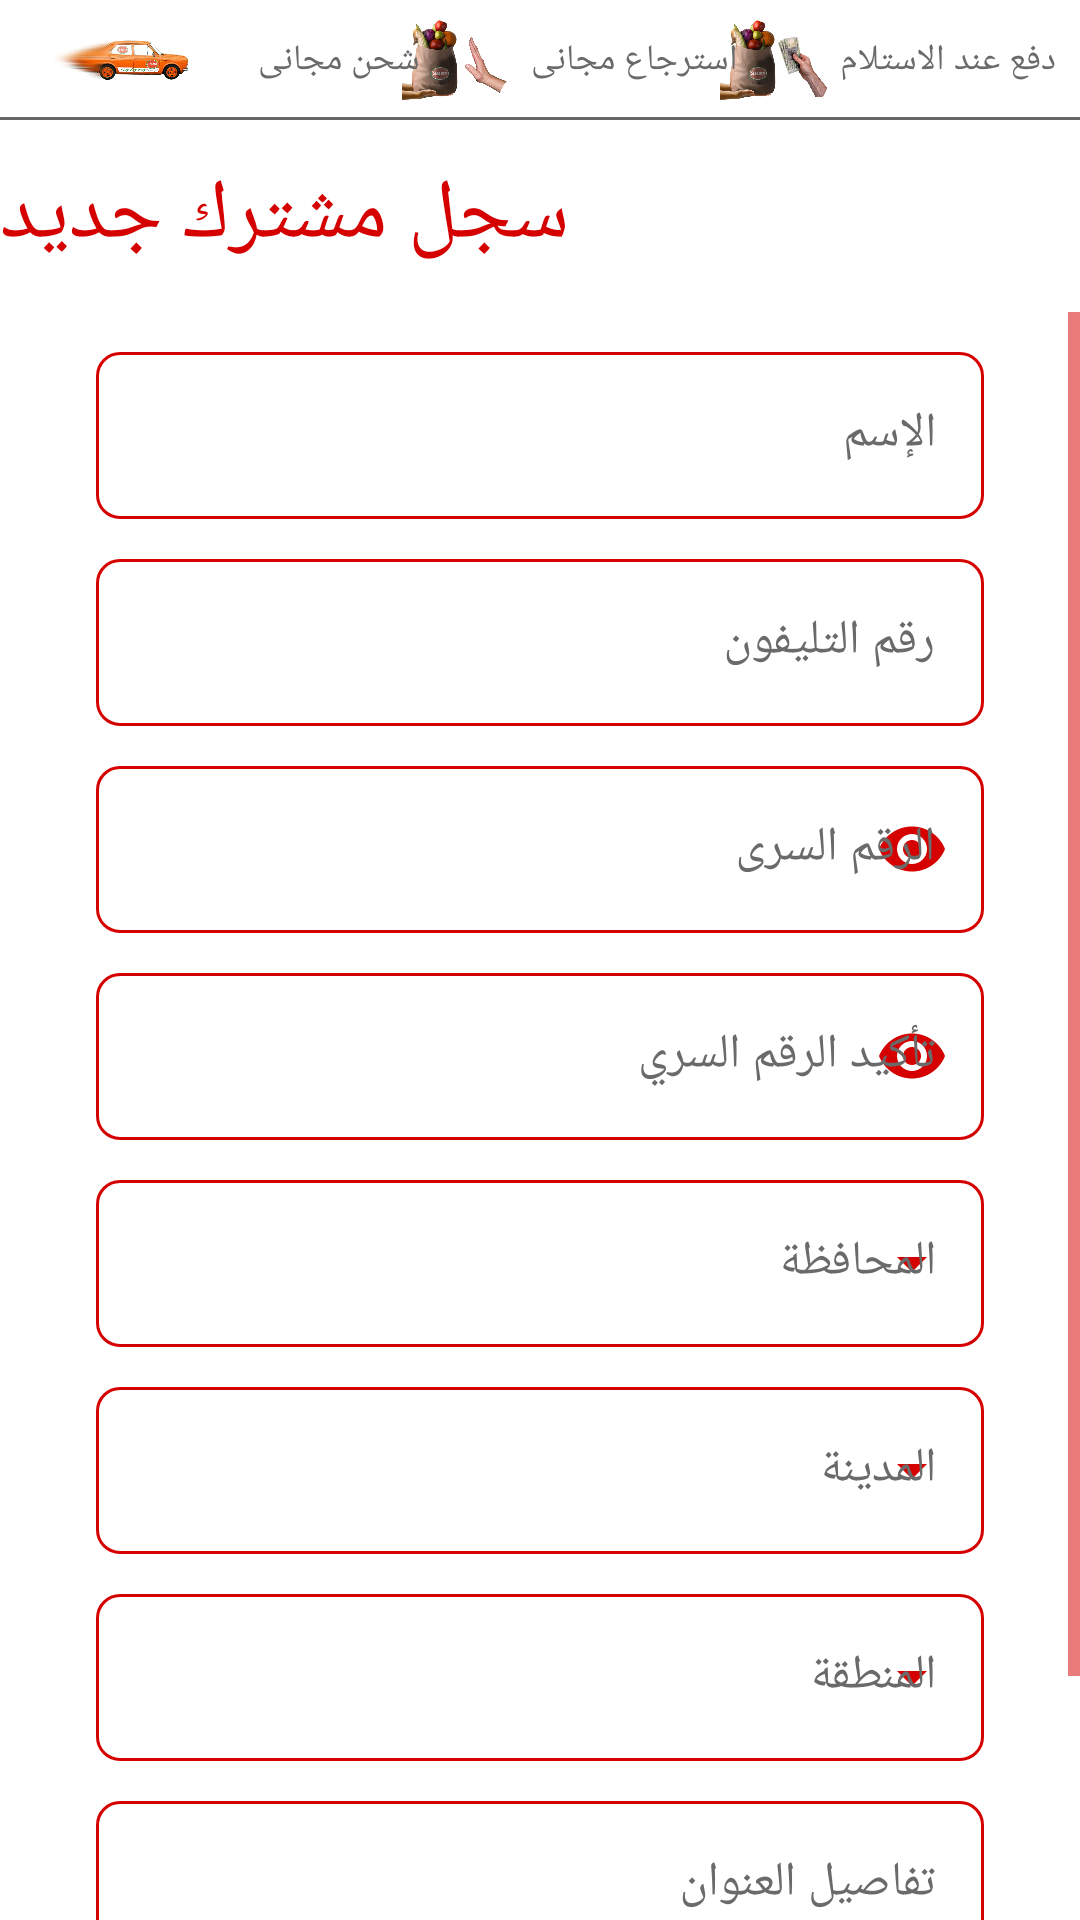

Icon bounding boxes for this 1080w x 1920h phone screenshot, format bbox=(x1, y1, x2, y2):
cash: bbox=(720, 20, 827, 100)
freereturn: bbox=(402, 20, 507, 100)
